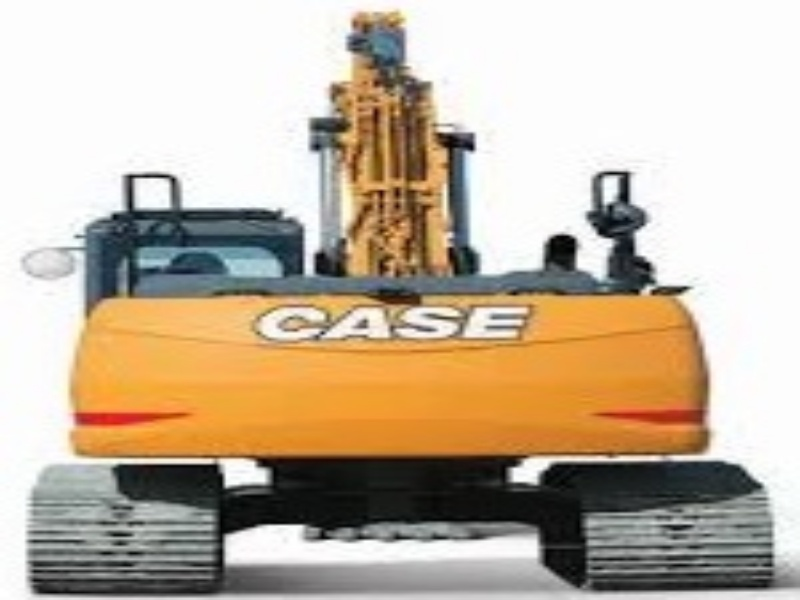wajueji: (29, 13, 781, 600)
